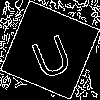U: (25, 25, 76, 81)
